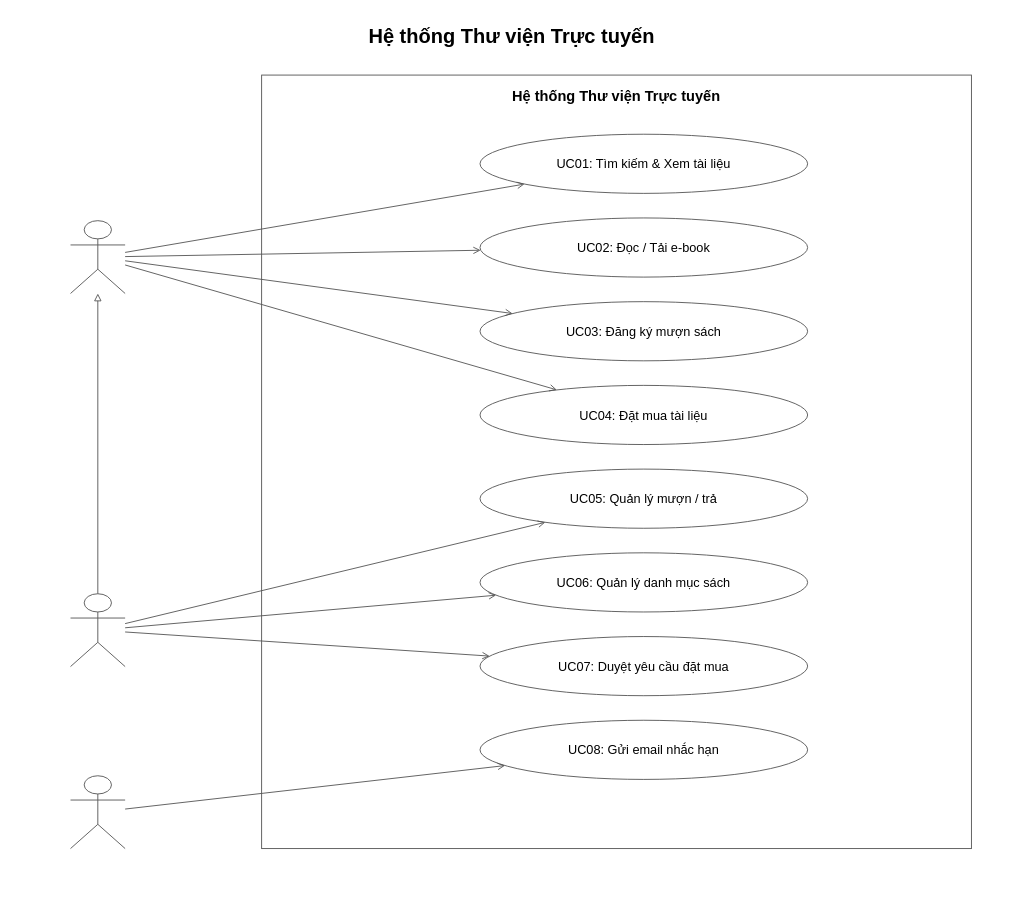
Some shapes in this 1023 by 901 pixel diagram are drawn without their labels. The centre of each missing label's shape, as x and y in pixels:
"Hệ thống Email" belongs at pixel 97 812.
"Thủ thư" belongs at pixel 97 630.
"Độc giả" belongs at pixel 97 256.
